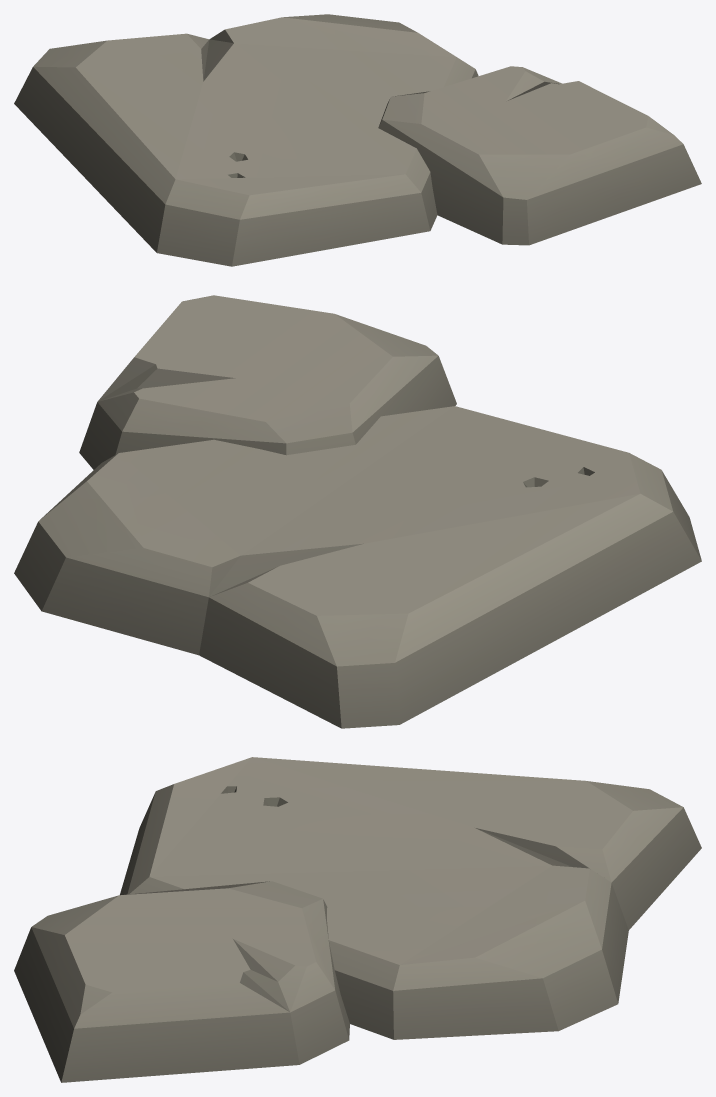
The model's file is Rock_Slab_3A.fbx.
3 renders of one model, top to bottom at view 1: azimuth 30°, elevation 25°; view 2: azimuth 150°, elevation 25°; view 3: azimuth 270°, elevation 25°, orthographic. The views are drawn at different scales.
Parts seen in each view (by area): view 1: Rock_Slab_3A; view 2: Rock_Slab_3A; view 3: Rock_Slab_3A.
Part boxes in pixels (x1=…): Rock_Slab_3A: x1=14, y1=14, x2=701, y2=266; Rock_Slab_3A: x1=14, y1=295, x2=701, y2=728; Rock_Slab_3A: x1=14, y1=757, x2=701, y2=1082.
Bounding box in the file's own units: 3.64 × 0.4357 × 3.78.
